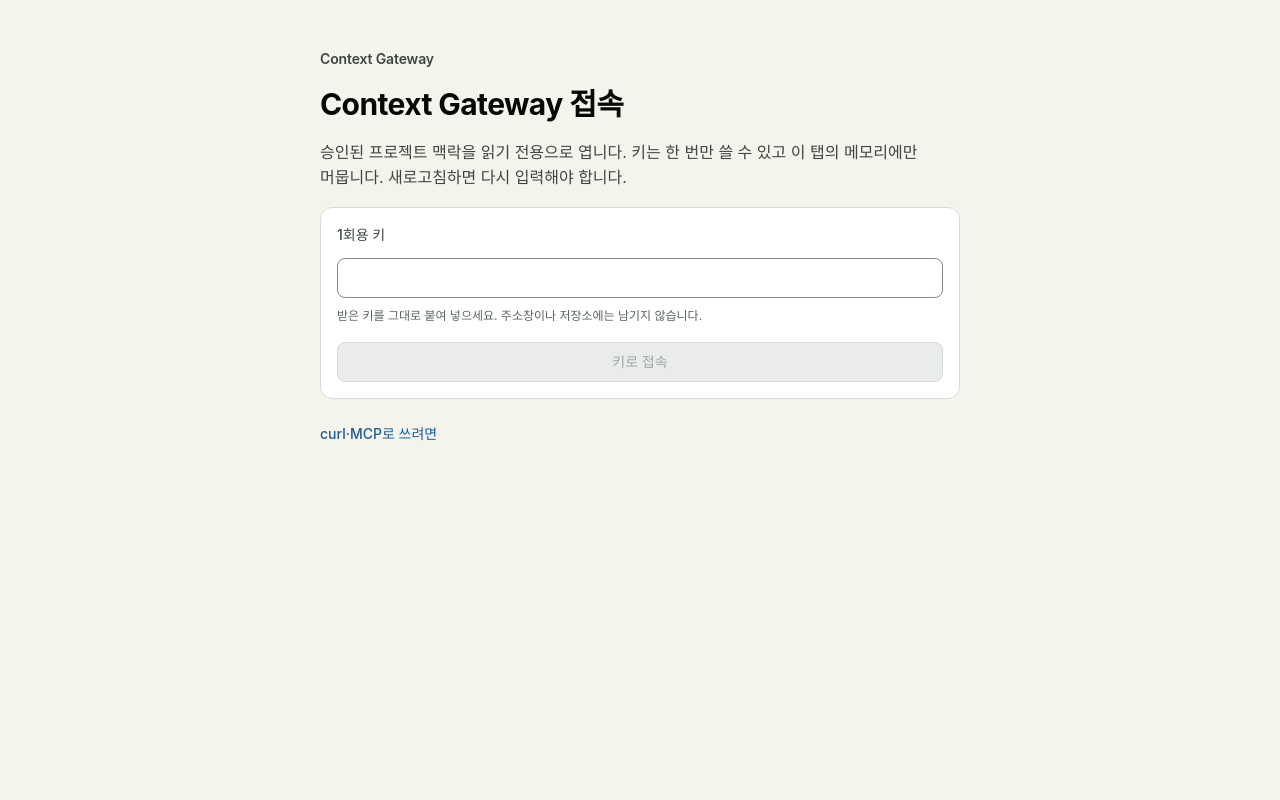
Test case: 로그인과 정상 조회 › 키를 한 번 교환하고 세션으로 프로젝트 목록·문서를 읽는다
Type "synthetic-one-time-key-0001" into the password field labelled "1회용 키" at [640, 278], box [337, 258, 943, 298]
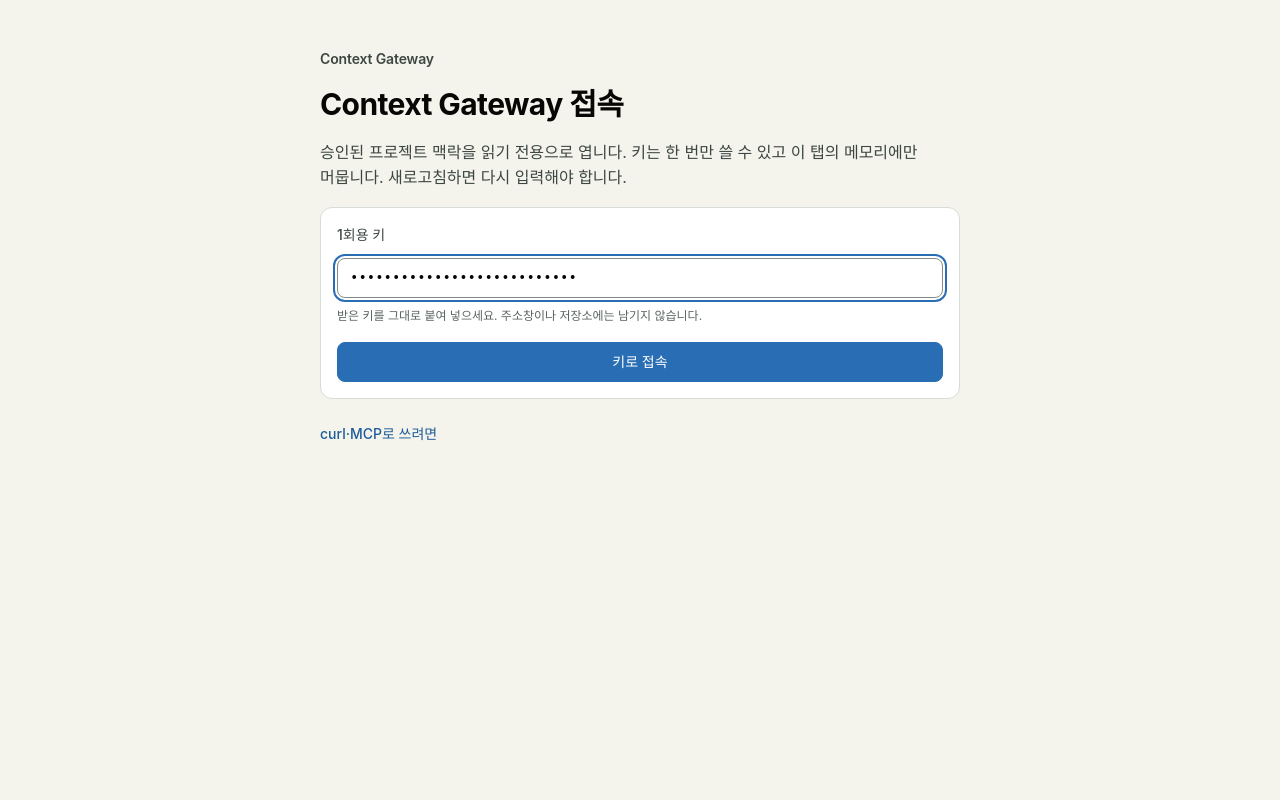
Click the button "키로 접속" at [640, 362], box [337, 342, 943, 382]
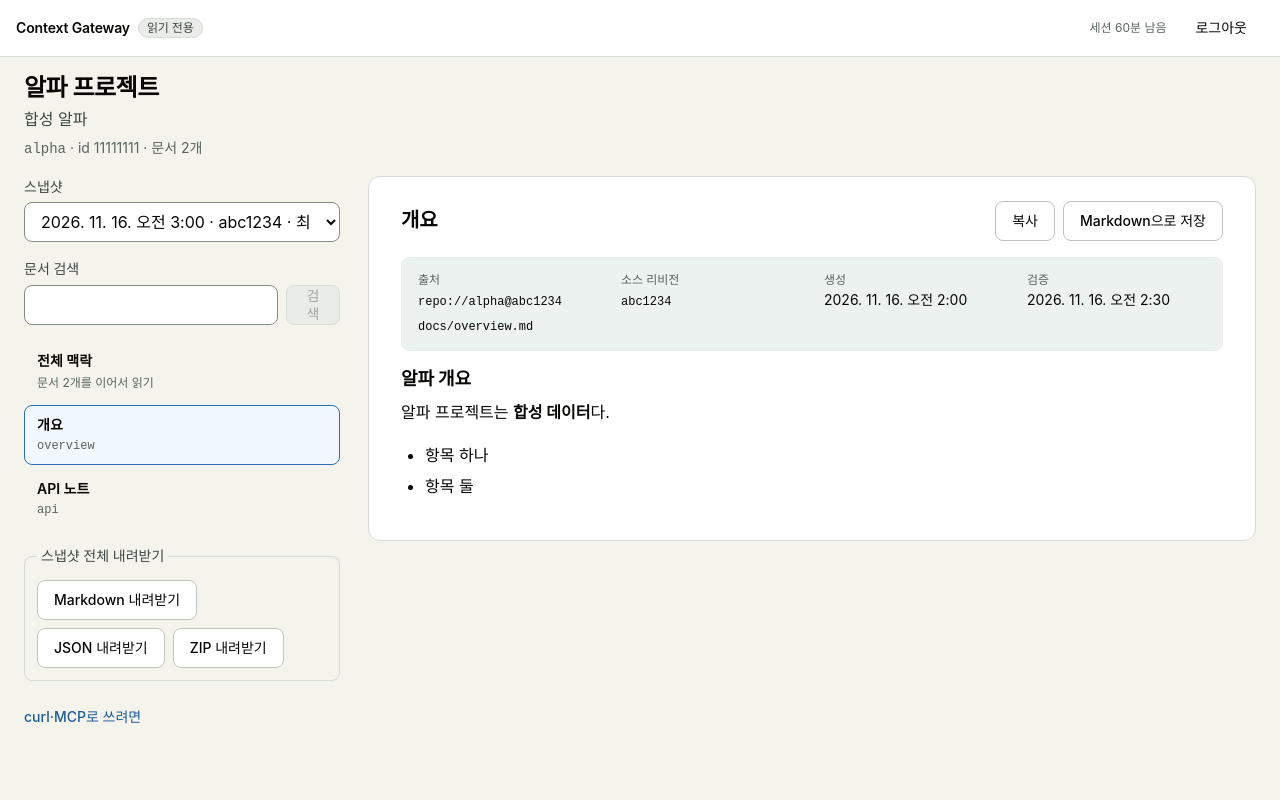
Check: the heading "알파 프로젝트" is shown, box [24, 73, 159, 102]
Check: the heading "개요" is shown, box [401, 208, 437, 232]
Check: the text "합성 데이터" is shown, box [513, 402, 590, 422]
